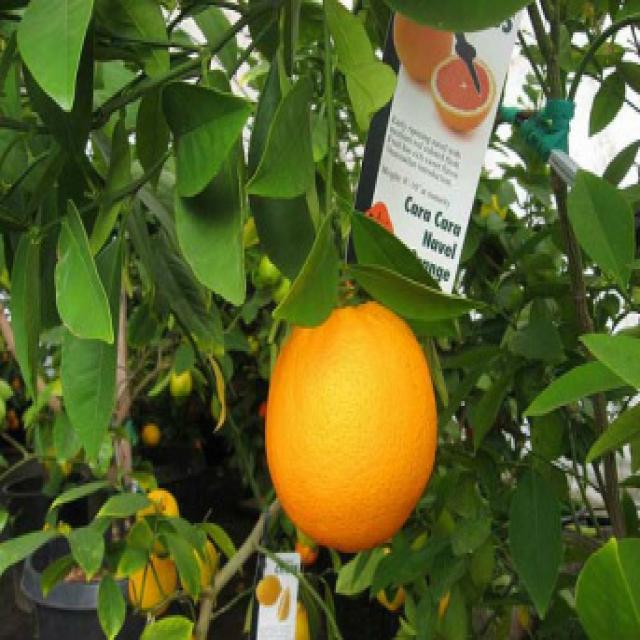orange: (264, 301, 444, 552), (127, 494, 190, 610), (385, 2, 452, 84)
